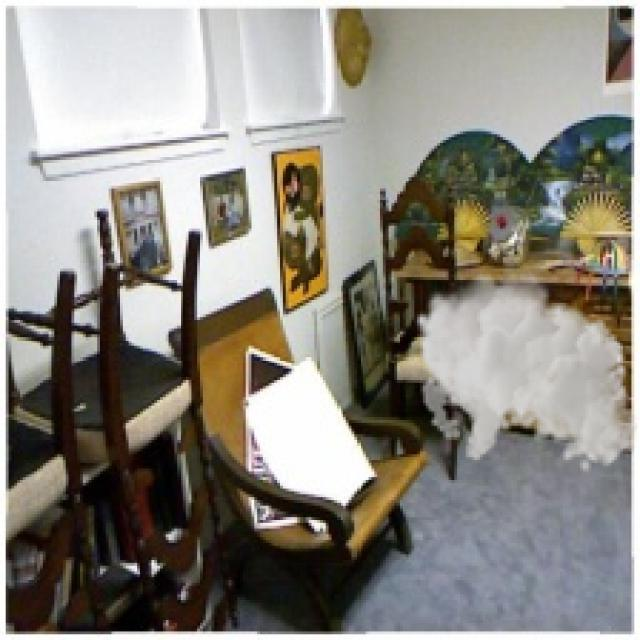Smoke: (414, 262, 637, 474)
